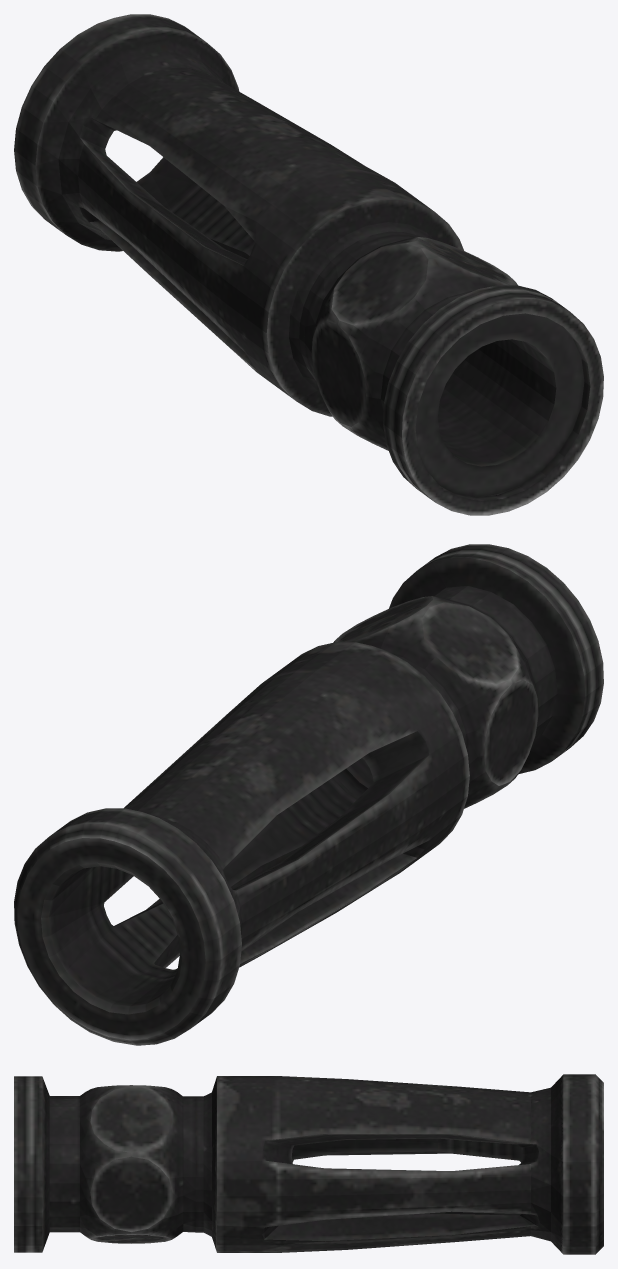
The picture shows the model from 3 angles, top to bottom: view 1: azimuth 30°, elevation 25°; view 2: azimuth 150°, elevation 25°; view 3: azimuth 270°, elevation 25°; orthographic projection. The views are drawn at different scales.
Visible parts, largest first — view 1: TW_630f2872911356c17d06abc5_PZ_Import; view 2: TW_630f2872911356c17d06abc5_PZ_Import; view 3: TW_630f2872911356c17d06abc5_PZ_Import.
Part boxes in pixels (x1,y1,x2,y2): TW_630f2872911356c17d06abc5_PZ_Import: (14, 14, 603, 515); TW_630f2872911356c17d06abc5_PZ_Import: (14, 544, 603, 1045); TW_630f2872911356c17d06abc5_PZ_Import: (14, 1074, 603, 1254).
Size of the model in its own units: 0.0129 by 0.0423 by 0.0129.
1 material, 1 textured.
